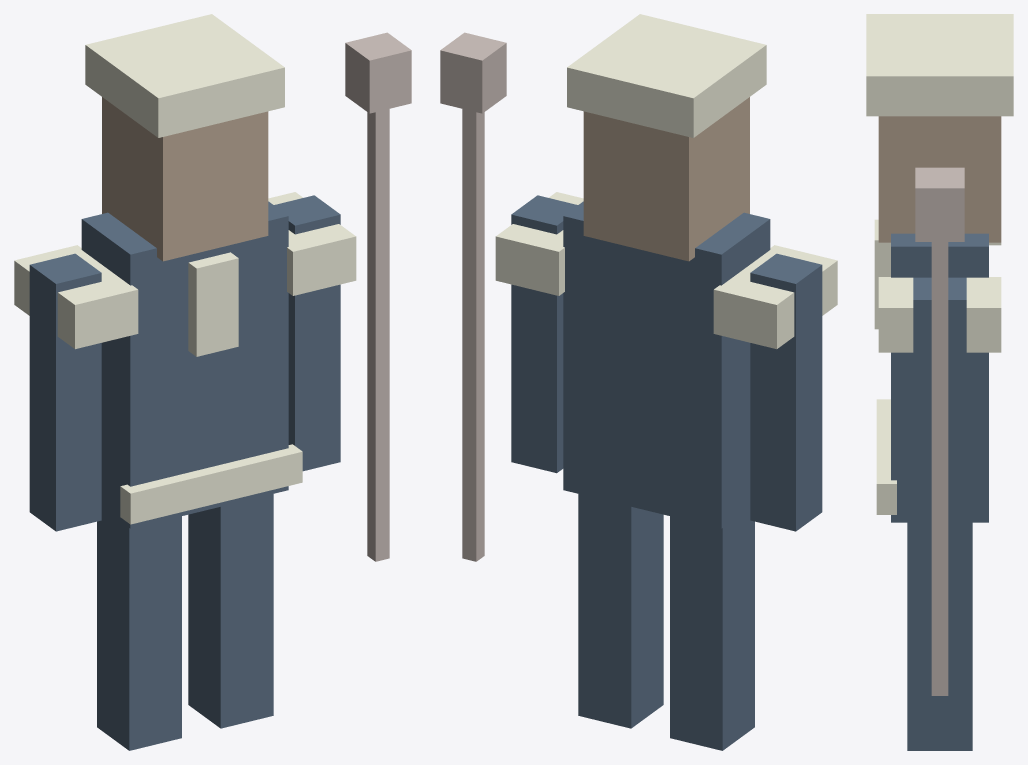
File: 04_zerin_signalborn_medic_of_lunar.glb
3 views of the same model, side by side, from view 1: azimuth 30°, elevation 25°; view 2: azimuth 150°, elevation 25°; view 3: azimuth 270°, elevation 25° (orthographic).
Visible parts, largest first — view 1: Zerin Signalborn, Medic of Lunar; view 2: Zerin Signalborn, Medic of Lunar; view 3: Zerin Signalborn, Medic of Lunar.
Boxes of the visible parts, bbox=[...] form: Zerin Signalborn, Medic of Lunar: bbox=[14, 14, 411, 750]; Zerin Signalborn, Medic of Lunar: bbox=[440, 14, 837, 750]; Zerin Signalborn, Medic of Lunar: bbox=[866, 14, 1013, 750].
Bounding box in the file's own units: 0.9419 × 1.68 × 0.3341.
